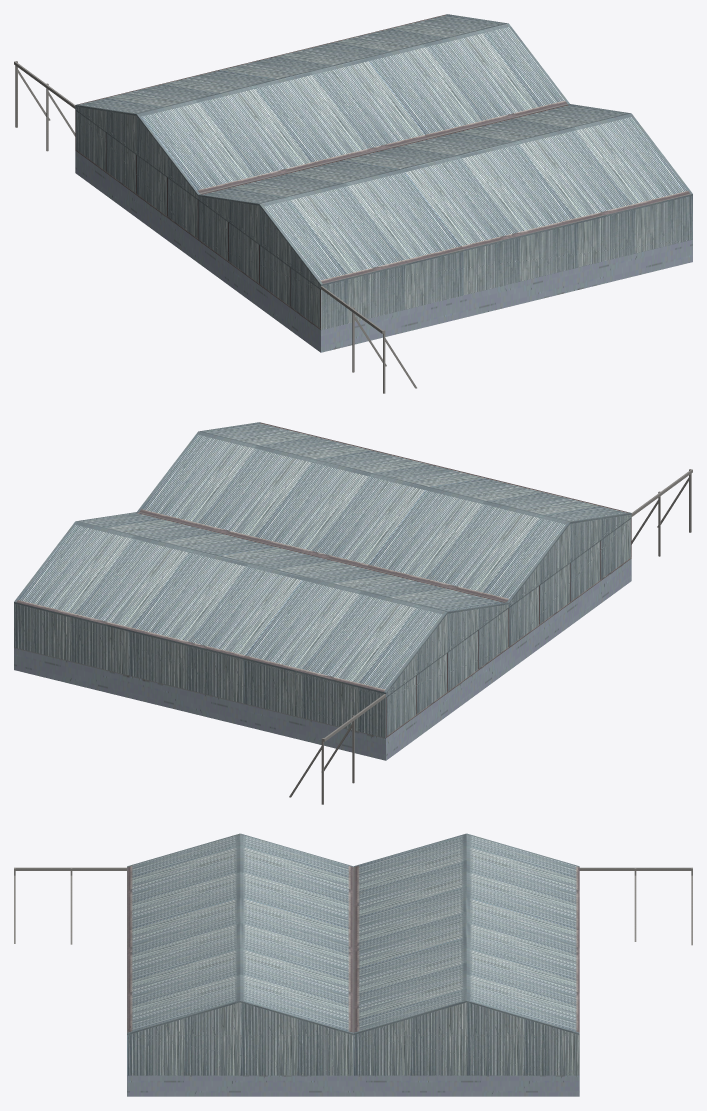
The model's file is hangar-double-40x35x4-cbj_LOD00.gltf.
The picture shows the model from 3 angles, top to bottom: view 1: azimuth 30°, elevation 25°; view 2: azimuth 150°, elevation 25°; view 3: azimuth 270°, elevation 25°; orthographic projection. The views are drawn at different scales.
Parts seen in each view (by area): view 1: hanger-dob; view 2: hanger-dob; view 3: hanger-dob.
Part boxes in pixels (x1=…): hanger-dob: x1=14, y1=14, x2=692, y2=393; hanger-dob: x1=14, y1=422, x2=692, y2=804; hanger-dob: x1=14, y1=833, x2=692, y2=1096.
Size of the model in its own units: 35 by 9.38 by 60.
